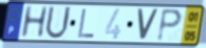4: (104, 8, 122, 42)
H: (19, 5, 51, 40)
L: (76, 8, 96, 39)
P: (155, 7, 185, 43)
U: (43, 5, 73, 41)
V: (136, 7, 161, 42)
